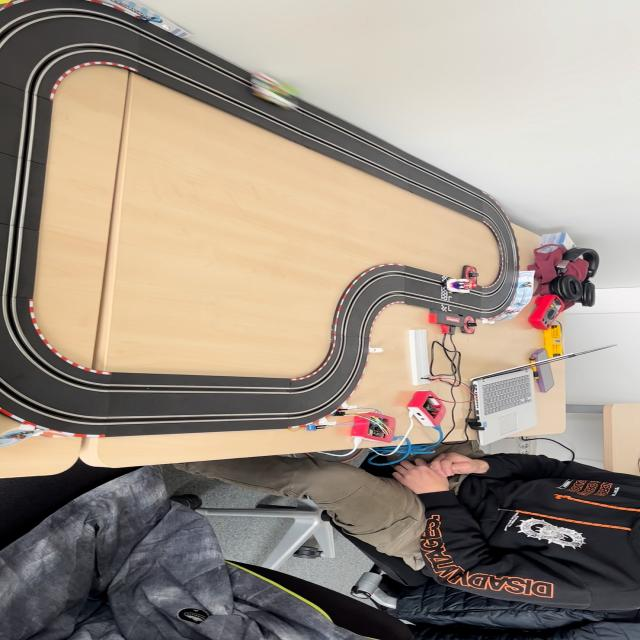mario: (446, 278, 480, 294)
yoshi: (248, 70, 302, 111)
